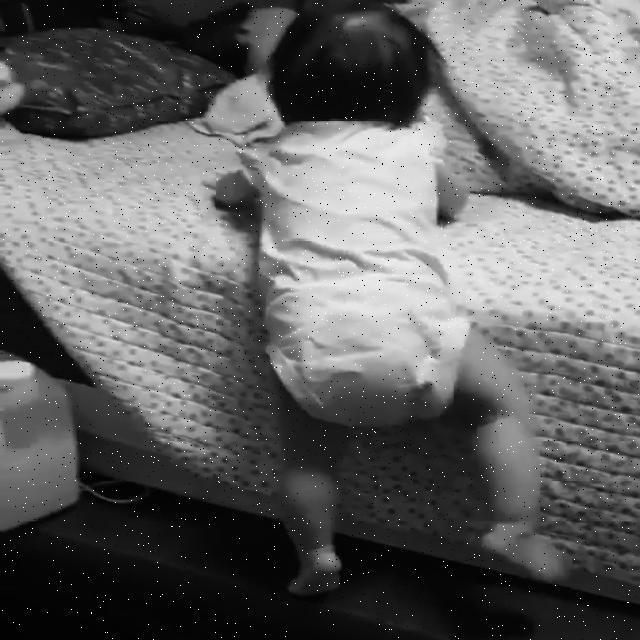child: (208, 3, 567, 594)
